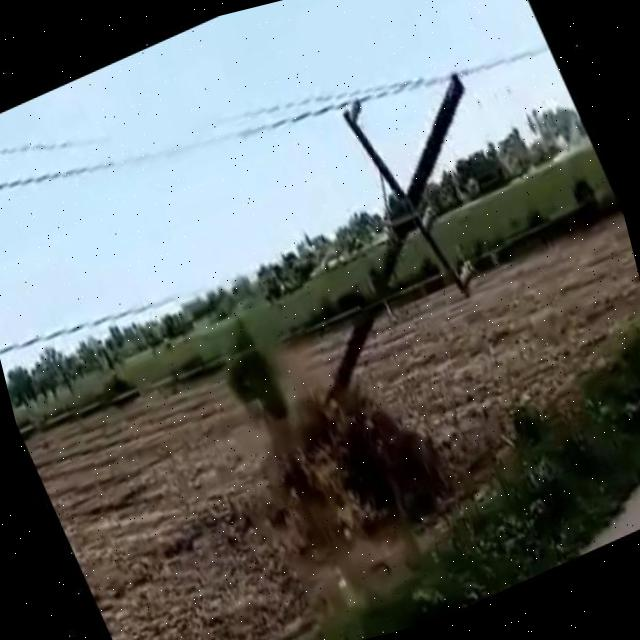Broken Pole: (321, 63, 481, 405)
